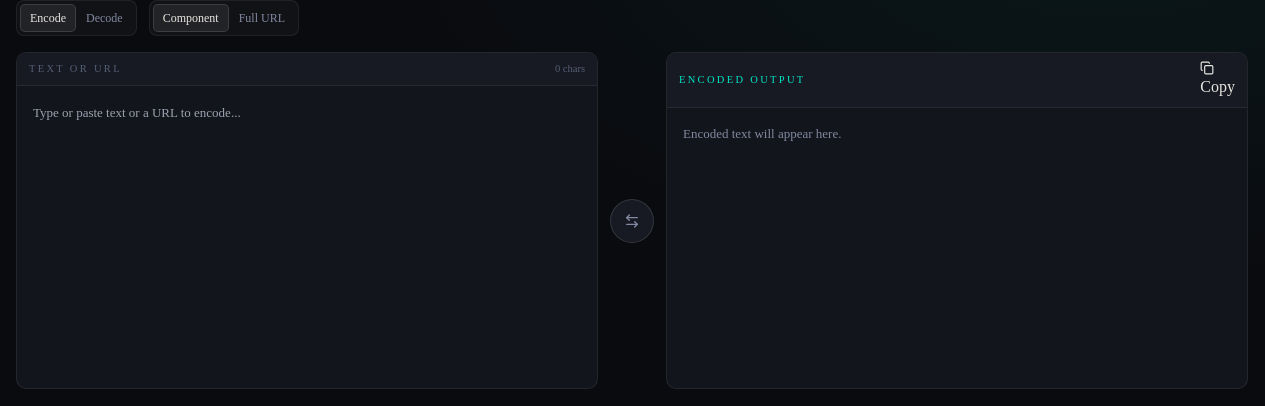
Test: UrlEncoderClient tabs › labels the panel with the selected tab
Step 1. Click the tab "Decode" → (104, 18), box [76,4,133,32]
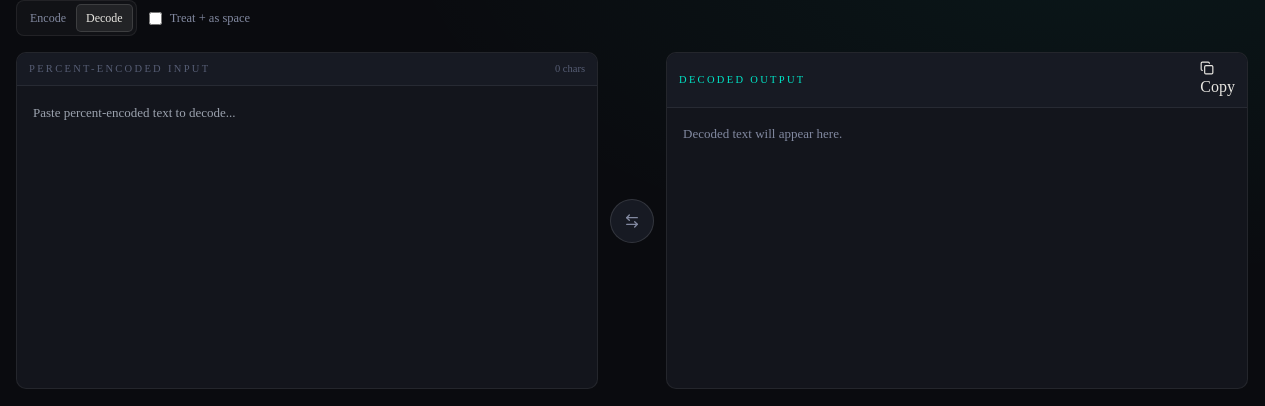
Now the panel "Decode" is shown
